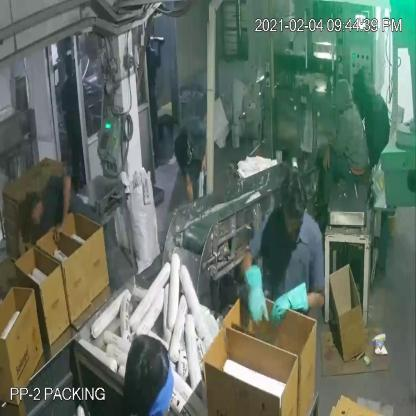glove: (269, 272, 311, 337), (239, 252, 269, 336)
no_glove: (52, 160, 74, 245), (182, 166, 196, 216), (322, 143, 334, 179)
